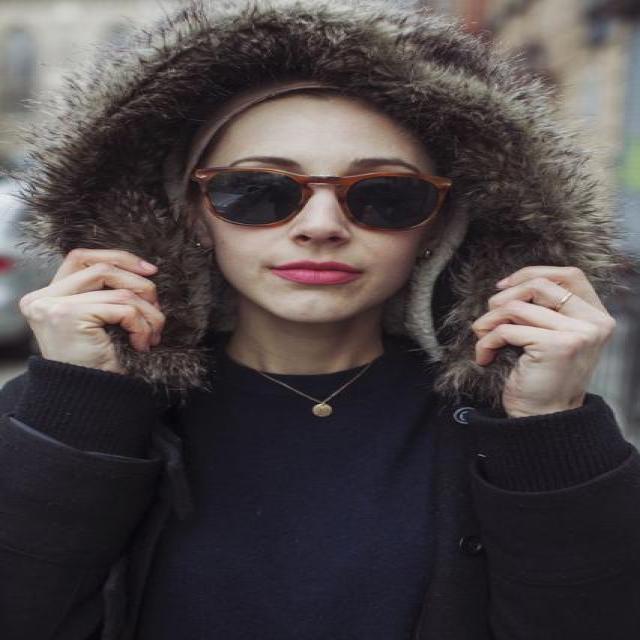glasses: (195, 166, 454, 234)
